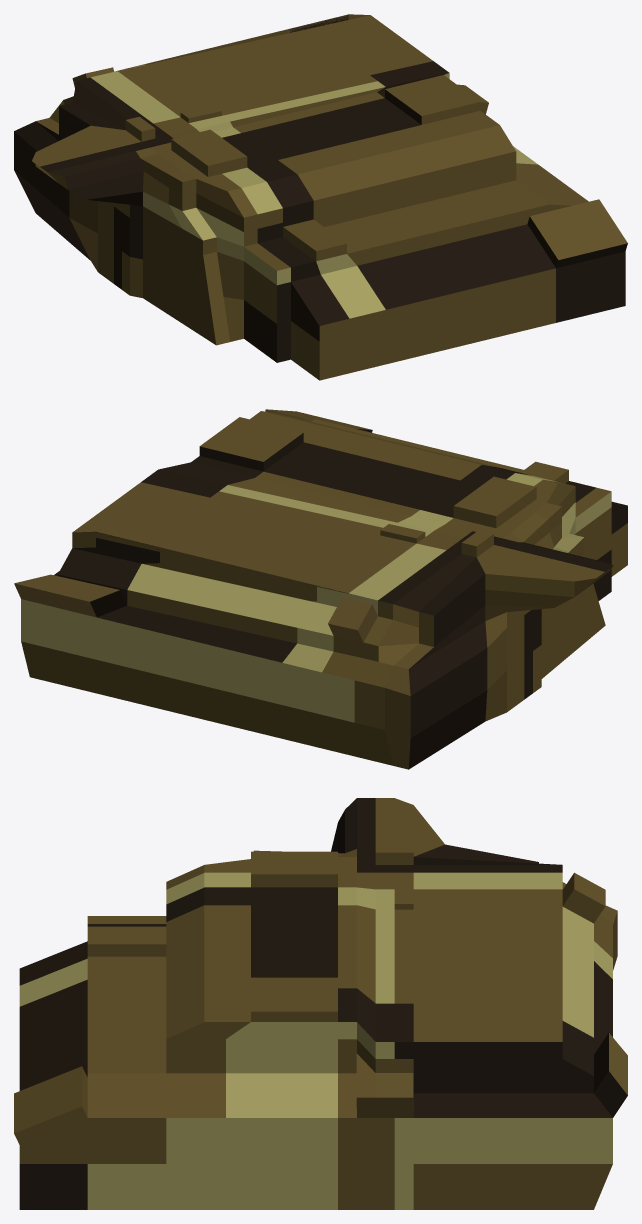
The model's file is cliff_model.obj.
3 renders of one model, top to bottom at view 1: azimuth 30°, elevation 25°; view 2: azimuth 150°, elevation 25°; view 3: azimuth 270°, elevation 25°, orthographic. The views are drawn at different scales.
Parts seen in each view (by area): view 1: Cube; view 2: Cube; view 3: Cube.
Part boxes in pixels (bbox=[...]): Cube: bbox=[14, 14, 627, 380]; Cube: bbox=[14, 409, 627, 769]; Cube: bbox=[14, 798, 627, 1209].
Bounding box in the file's own units: 15.98 × 5.07 × 16.26.
